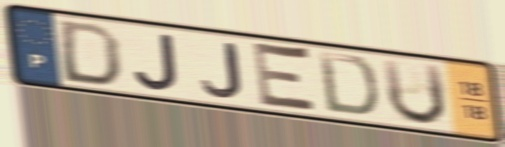D: (315, 49, 381, 119), (59, 18, 124, 89)
E: (251, 38, 322, 118)
J: (131, 31, 182, 94), (199, 41, 246, 100)
U: (378, 56, 450, 128)
